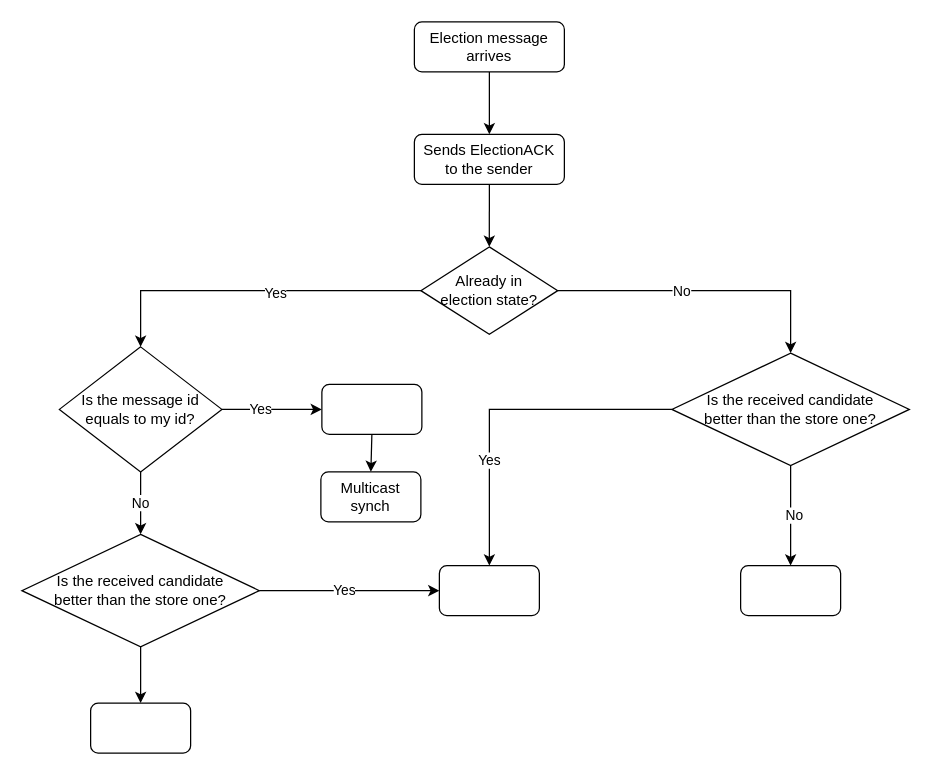
This 931x775 diagram has some shape labels left out. The shapes that lost their labels are listed below. From the top down, each one's centre as x and y in pixels, then its label:
At pixel 371 408: "Become new coordinator".
At pixel 488 590: "Forward received message".
At pixel 790 590: "Sends me as new leader".
At pixel 140 727: "Do nothing".
